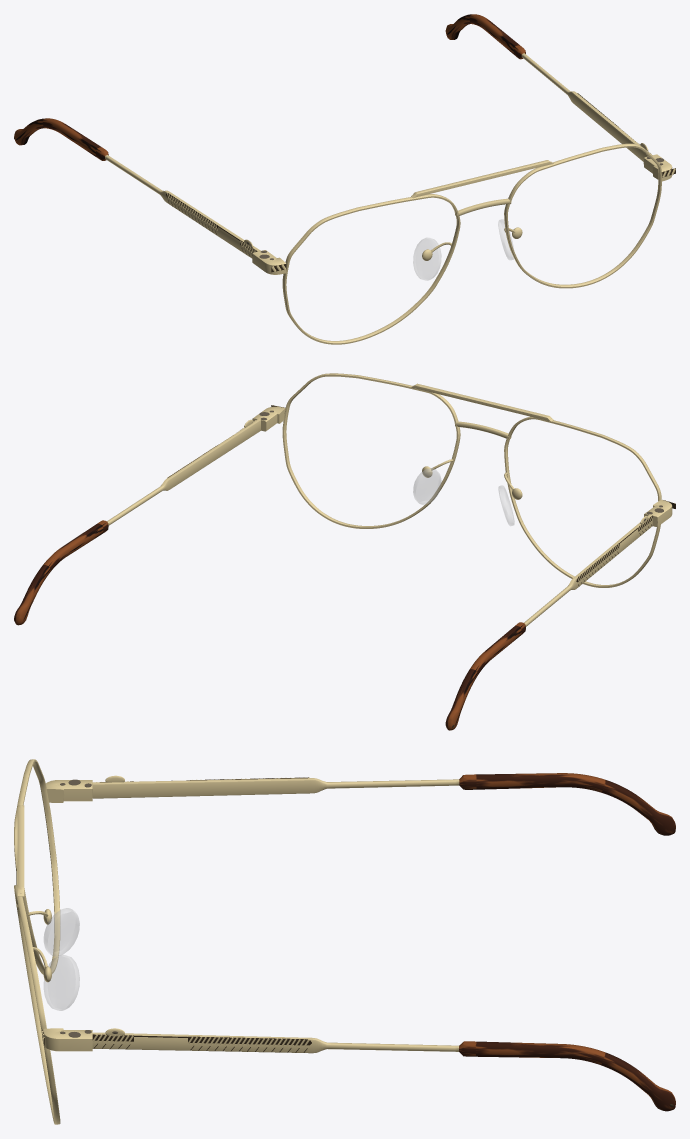
The model's file is the-look-piloto-3d.glb.
3 views of the same model, one above another, from view 1: azimuth 30°, elevation 25°; view 2: azimuth 150°, elevation 25°; view 3: azimuth 270°, elevation 25° (orthographic). The views are drawn at different scales.
Parts seen in each view (by area): view 1: varilla_der, aro_der, varilla_izq, aro_izq, puente, plaqueta_der; view 2: varilla_izq, varilla_der, aro_izq, aro_der, puente, plaqueta_izq; view 3: varilla_der, varilla_izq, aro_izq, aro_der, plaqueta_izq, plaqueta_der, puente.
Boxes of the visible parts, bbox=[...] form: varilla_der: bbox=[14, 118, 260, 258]; aro_der: bbox=[252, 194, 460, 344]; varilla_izq: bbox=[445, 14, 652, 161]; aro_izq: bbox=[504, 143, 675, 288]; puente: bbox=[411, 160, 553, 216]; plaqueta_der: bbox=[413, 238, 451, 280]; varilla_izq: bbox=[14, 419, 260, 625]; varilla_der: bbox=[445, 514, 652, 730]; aro_izq: bbox=[252, 373, 460, 528]; aro_der: bbox=[504, 416, 675, 587]; puente: bbox=[411, 383, 553, 439]; plaqueta_izq: bbox=[413, 459, 453, 504]; varilla_der: bbox=[92, 773, 675, 835]; varilla_izq: bbox=[92, 1028, 675, 1111]; aro_izq: bbox=[14, 885, 92, 1124]; aro_der: bbox=[14, 759, 92, 974]; plaqueta_izq: bbox=[33, 947, 79, 1010]; plaqueta_der: bbox=[28, 908, 79, 956]; puente: bbox=[16, 805, 24, 907].
Bounding box in the file's own units: 0.1558 × 0.0496 × 0.1552.
5 materials, 1 textured.
